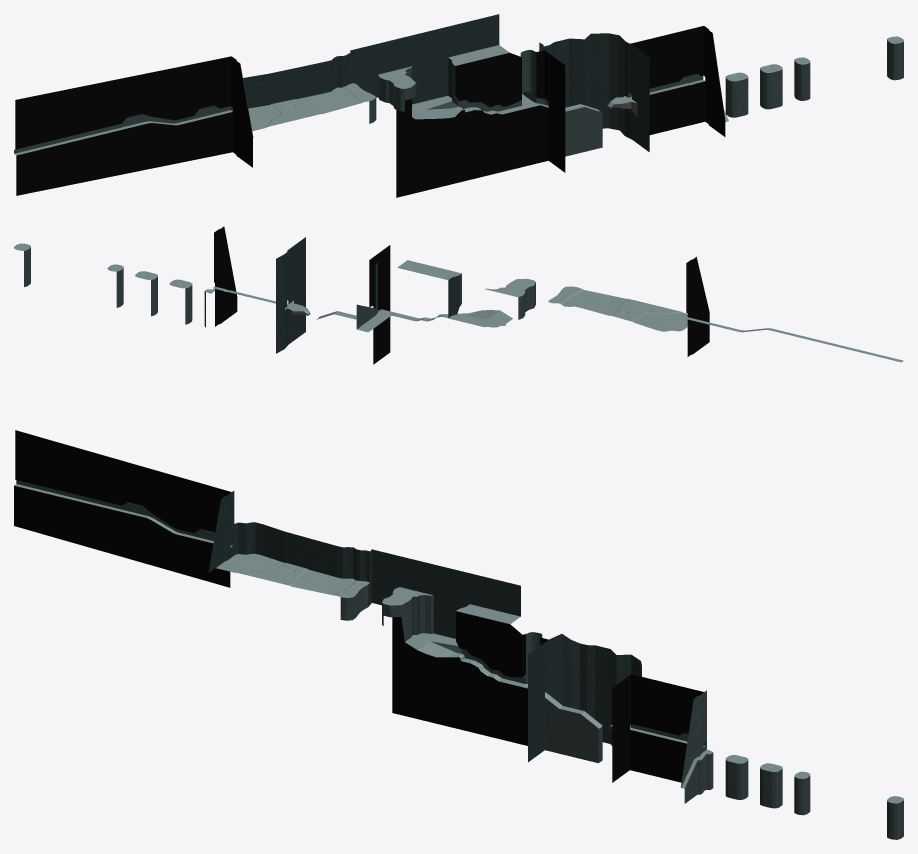
File: mountain_cart.gltf
3 views of the same model, one above another, from view 1: azimuth 30°, elevation 25°; view 2: azimuth 150°, elevation 25°; view 3: azimuth 330°, elevation 25° (orthographic).
Parts seen in each view (by area): view 1: root; view 2: root; view 3: root.
Part boxes in pixels (x1,y1,x2,y2): root: [14, 14, 903, 197]; root: [14, 226, 903, 364]; root: [14, 430, 903, 839].
Bounding box in the file's own units: 1278 × 263 × 116.
6 materials, 4 textured.
